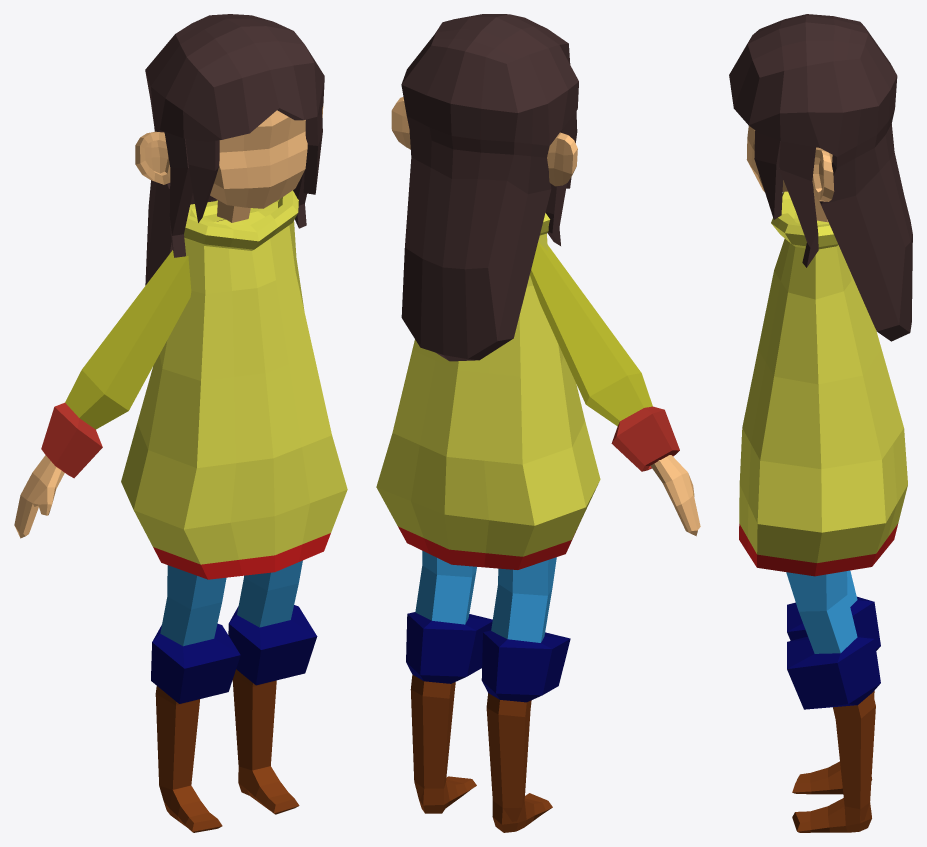
The model's file is My Frist Character Project 1.fbx.
3 renders of one model, left to right at view 1: azimuth 30°, elevation 25°; view 2: azimuth 150°, elevation 25°; view 3: azimuth 270°, elevation 25°, orthographic.
Visible parts, largest first — view 1: Cube, Cube.001, Cylinder.001, Cylinder, Cylinder.004, Cube.003, Cube.002; view 2: Cube.001, Cube, Cylinder, Cylinder.001, Cylinder.004, Cube.002; view 3: Cube, Cube.001, Cylinder.004, Cylinder, Cube.002, Cube.003.
Part boxes in pixels (x1,y1,x2,y2): Cube: (121, 190, 347, 579); Cube.001: (145, 14, 324, 285); Cylinder.001: (14, 250, 191, 538); Cylinder: (151, 565, 240, 832); Cylinder.004: (228, 560, 317, 814); Cube.003: (210, 110, 307, 208); Cube.002: (135, 106, 323, 184); Cube.001: (401, 14, 578, 361); Cube: (376, 213, 600, 569); Cylinder: (481, 557, 570, 832); Cylinder.001: (530, 242, 700, 536); Cylinder.004: (406, 550, 492, 813); Cube.002: (391, 97, 577, 186); Cube: (739, 191, 907, 576); Cube.001: (729, 14, 912, 341); Cylinder.004: (786, 571, 880, 832); Cylinder: (787, 570, 880, 794); Cube.002: (812, 149, 834, 201); Cube.003: (746, 126, 832, 192).
Size of the model in its own units: 156 by 377 by 79.84.
